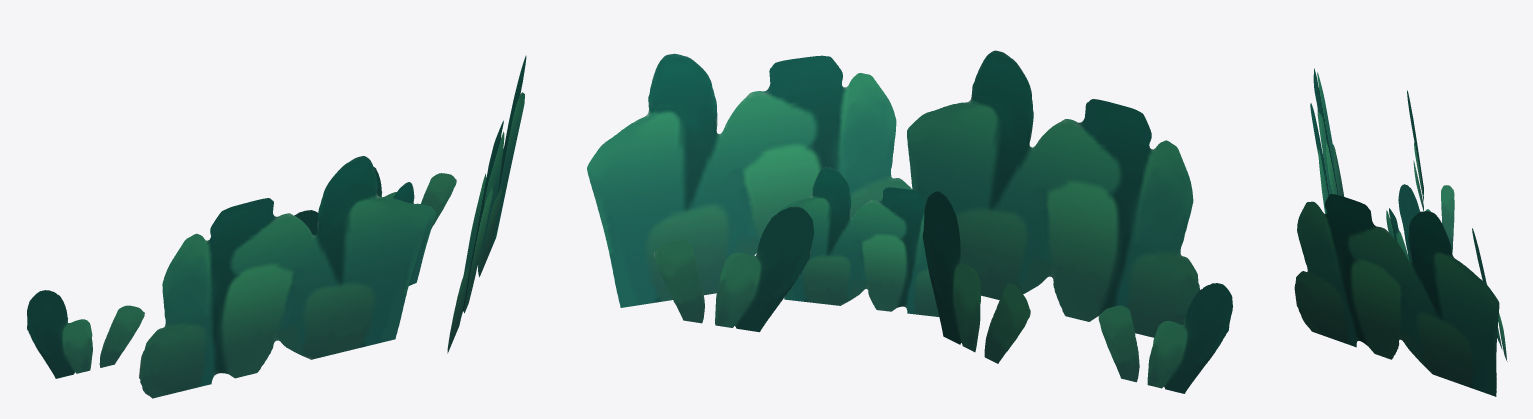
Rendered from Snake_grass_02.fbx.
3 views of the same model, side by side, from view 1: azimuth 30°, elevation 25°; view 2: azimuth 150°, elevation 25°; view 3: azimuth 270°, elevation 25° (orthographic). The views are drawn at different scales.
Visible parts, largest first — view 1: Snake_grass_02; view 2: Snake_grass_02; view 3: Snake_grass_02.
Boxes of the visible parts, x1,y1,x2,y2 form: Snake_grass_02: (27, 55, 526, 398); Snake_grass_02: (587, 50, 1232, 393); Snake_grass_02: (1294, 68, 1507, 396).
Bounding box in the file's own units: 172 × 63.67 × 75.55.
Materials: 1 (1 with a texture image).
